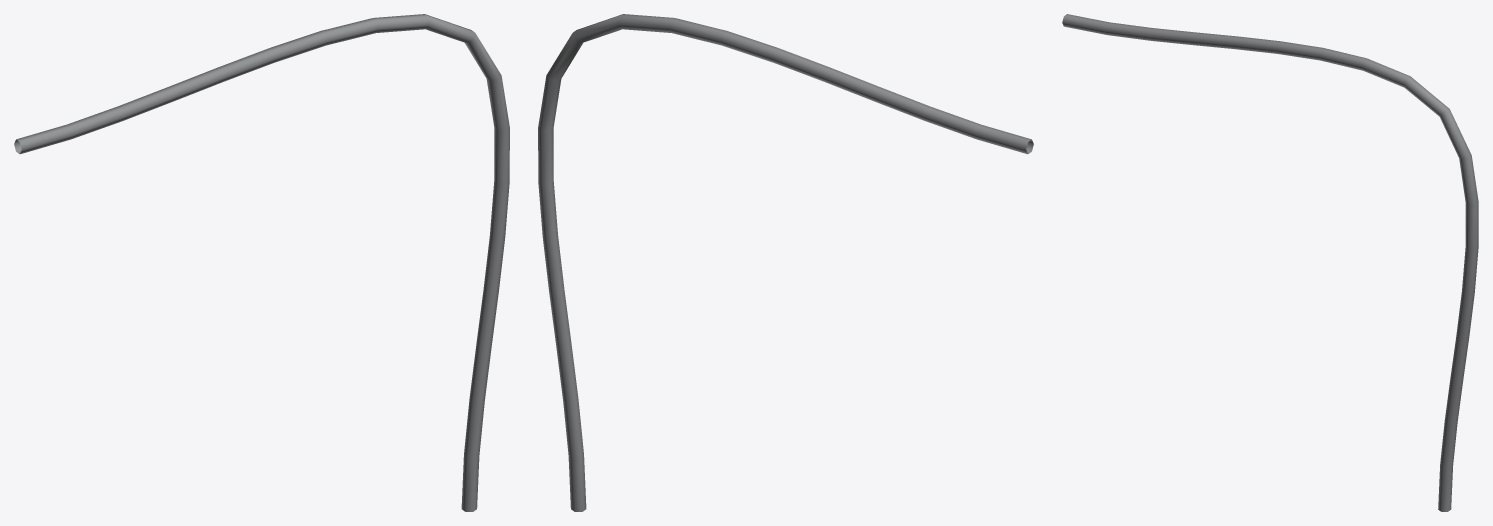
The picture shows the model from 3 angles, left to right: view 1: azimuth 30°, elevation 25°; view 2: azimuth 150°, elevation 25°; view 3: azimuth 330°, elevation 25°; orthographic projection. The views are drawn at different scales.
Bounding box in the file's own units: 1.02 × 1.02 × 0.028.
